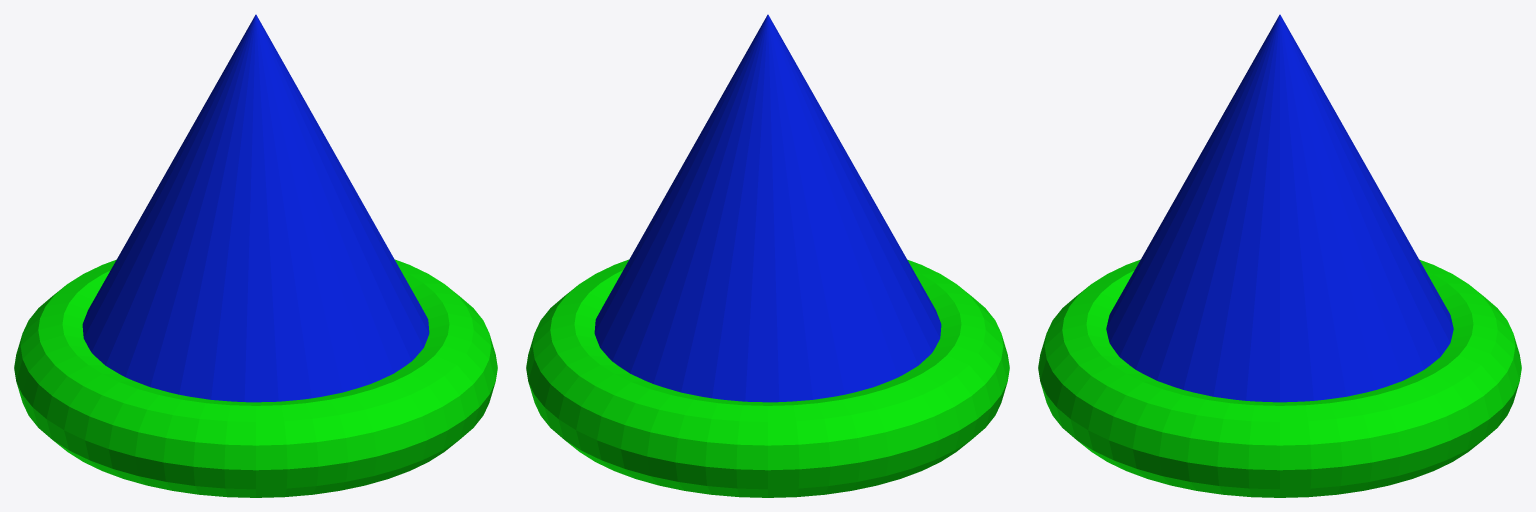
Rendered from hologram.glb.
The picture shows the model from 3 angles, left to right: view 1: azimuth 30°, elevation 25°; view 2: azimuth 150°, elevation 25°; view 3: azimuth 270°, elevation 25°; orthographic projection.
Visible parts, largest first — view 1: Cone, Torus; view 2: Cone, Torus; view 3: Cone, Torus.
Boxes of the visible parts, bbox=[...] form: Cone: bbox=[82, 14, 429, 402]; Torus: bbox=[14, 259, 497, 497]; Cone: bbox=[594, 14, 941, 402]; Torus: bbox=[526, 259, 1009, 497]; Cone: bbox=[1106, 14, 1453, 402]; Torus: bbox=[1038, 259, 1521, 497].
Size of the model in its own units: 893 by 811 by 893.
